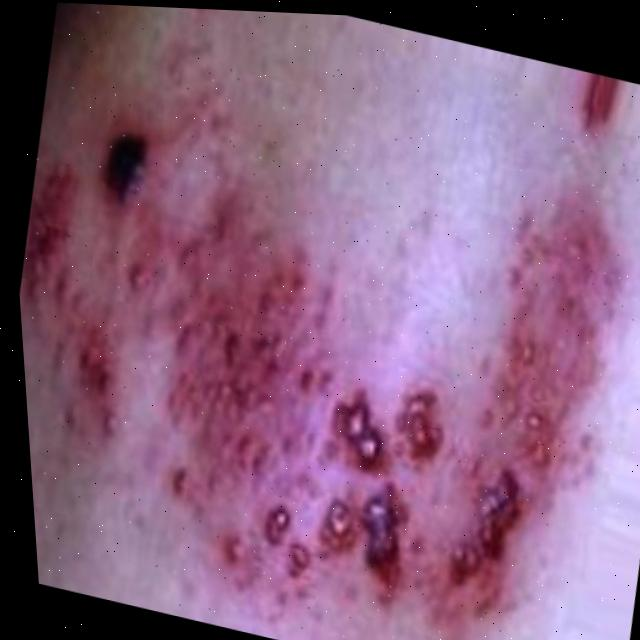Shingles: (4, 67, 640, 640), (566, 69, 629, 136)
